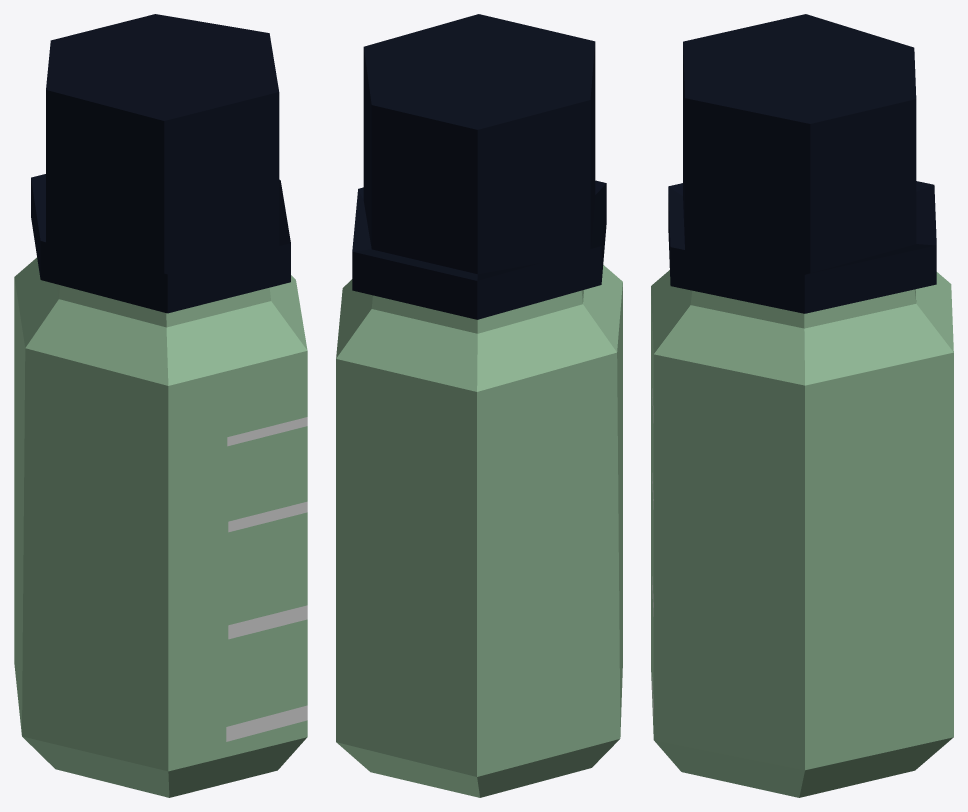
File: bottle_filled.fbx
3 views of the same model, side by side, from view 1: azimuth 30°, elevation 25°; view 2: azimuth 150°, elevation 25°; view 3: azimuth 270°, elevation 25° (orthographic).
Parts seen in each view (by area): view 1: bottle_filled; view 2: bottle_filled; view 3: bottle_filled.
Boxes of the visible parts, bbox=[...] form: bottle_filled: bbox=[14, 14, 307, 797]; bottle_filled: bbox=[336, 14, 622, 797]; bottle_filled: bbox=[651, 14, 953, 797].
Size of the model in its own units: 130 by 299 by 121.
